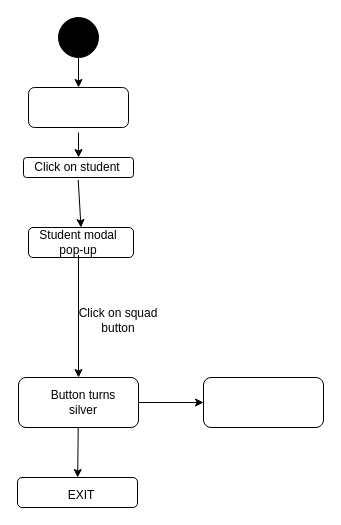
Some shapes in this 341 by 525 pixel diagram are drawn without their labels. The shapes that lost their labels are listed below. From the top down, each one's centre as x and y in pixels, then its label:
At (x=78, y=107): "Loaded site".
At (x=263, y=402): "Button goes back to regular".
